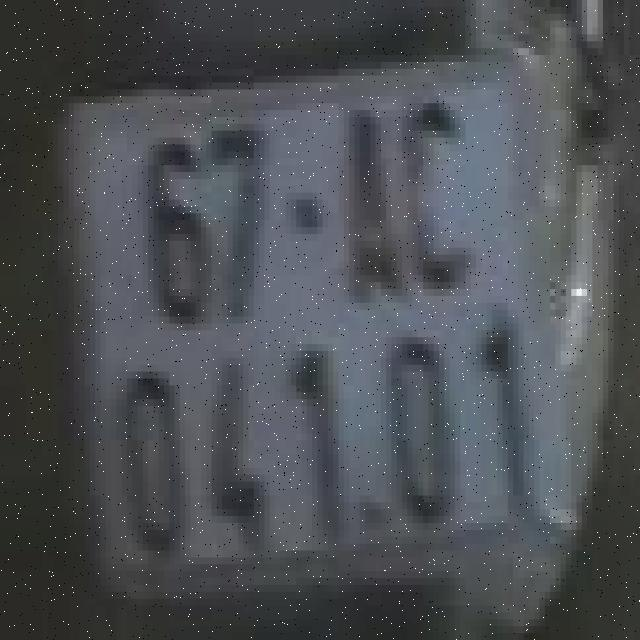0: (368, 316, 473, 544), (95, 354, 206, 561)
1: (470, 296, 560, 544), (286, 330, 349, 550)
4: (188, 351, 288, 557)
6: (132, 131, 222, 337)
7: (204, 120, 272, 320)
A: (328, 100, 412, 313)
C: (399, 82, 479, 296)
